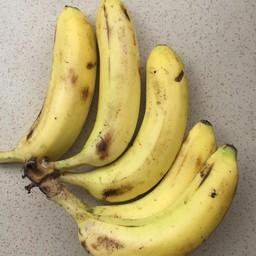Banana Ripe: (37, 114, 241, 256), (59, 37, 186, 226), (15, 2, 98, 177), (79, 0, 142, 207)
